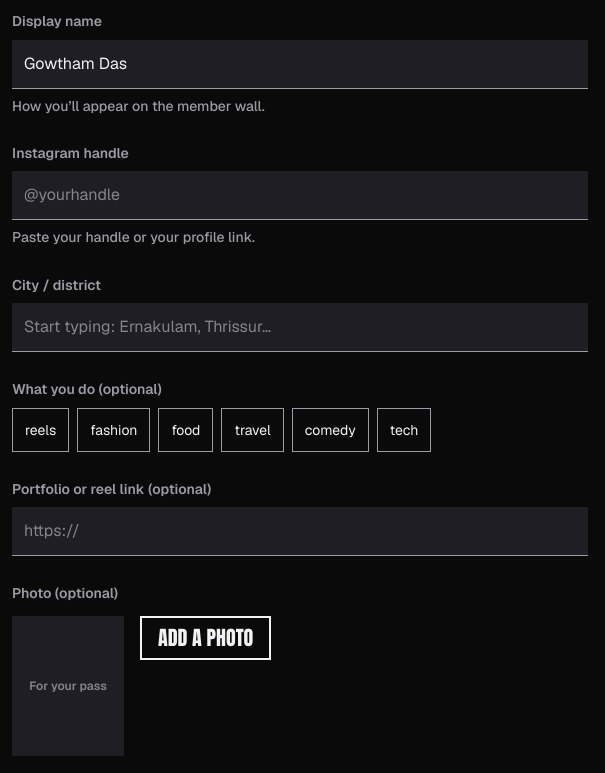
Scenario: DetailsForm (§7 step 3) › the normalised handle is previewed
This screenshot has width=605, height=773.
Step 1. Type "instagram.com/The.Gowtham_Das" into the field labelled "Instagram handle" → (300, 196), box [12, 171, 588, 220]
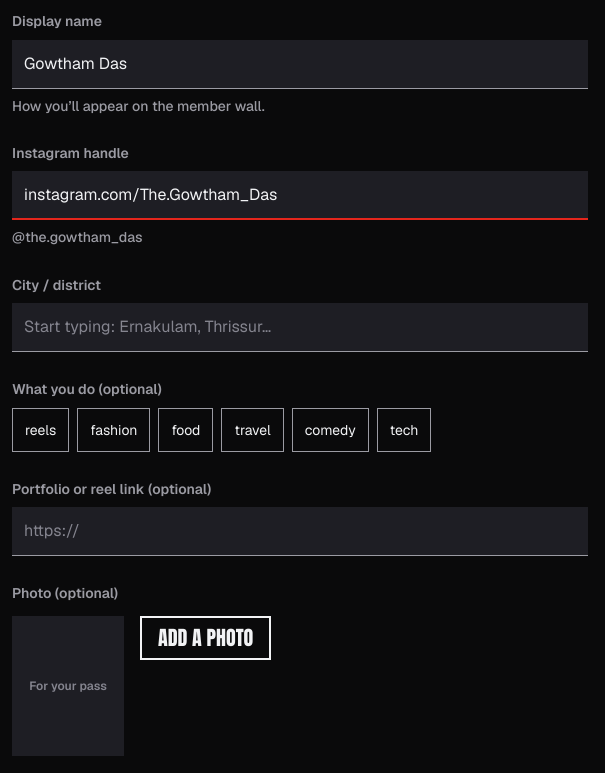
Result: the text "@the.gowtham_das" is shown at [12, 228, 143, 246]
